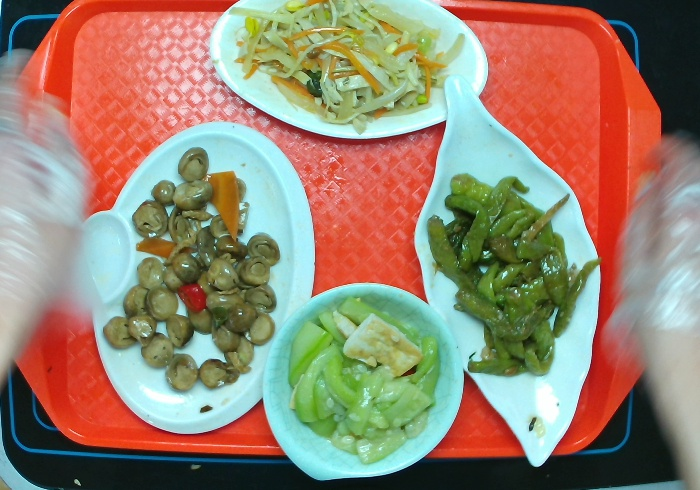RJxy-Bai_Se_Tuo_Yuan: (200, 1, 497, 147)
RJxy-Shu_Ye_Pan: (411, 73, 606, 475)
RJxy-Xiao_Jiao_Yuan_Wan: (262, 283, 469, 489)
RJxy-Zhan_Liao_Pan: (84, 118, 319, 440)
